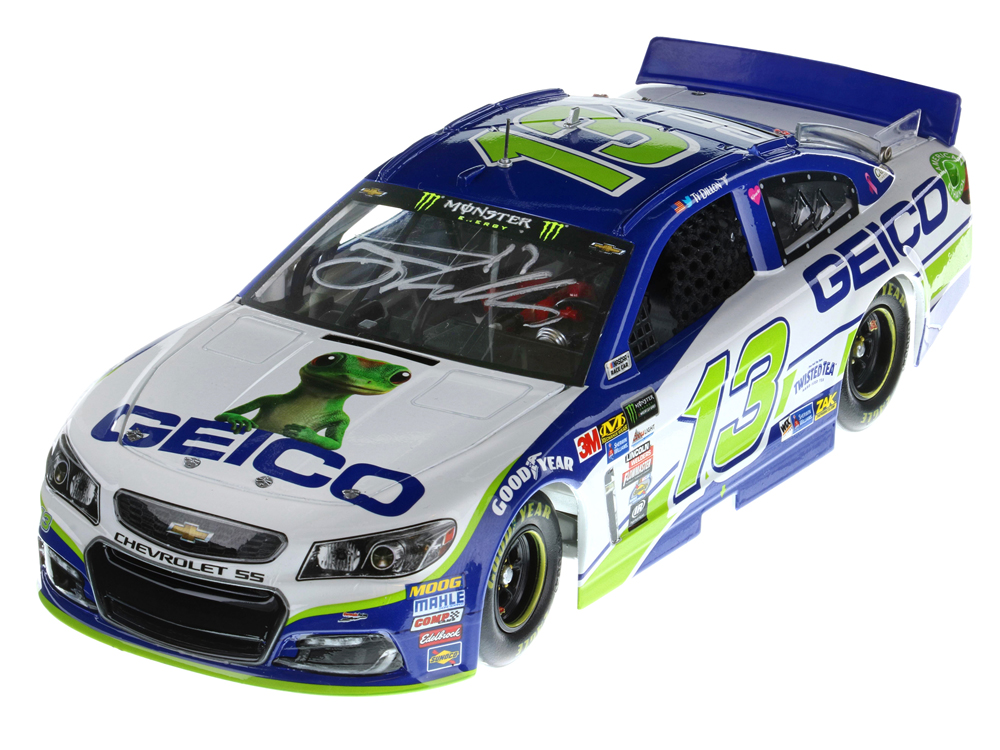Geico: (88, 383, 438, 534), (804, 181, 961, 314)
